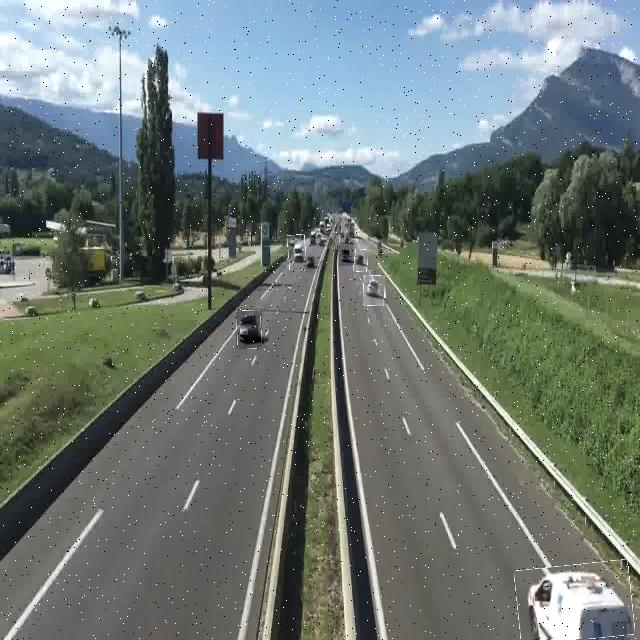Car: (516, 562, 633, 640), (236, 311, 262, 349), (364, 275, 386, 306), (287, 235, 306, 270), (338, 242, 354, 266), (353, 250, 368, 272), (304, 257, 318, 273)
